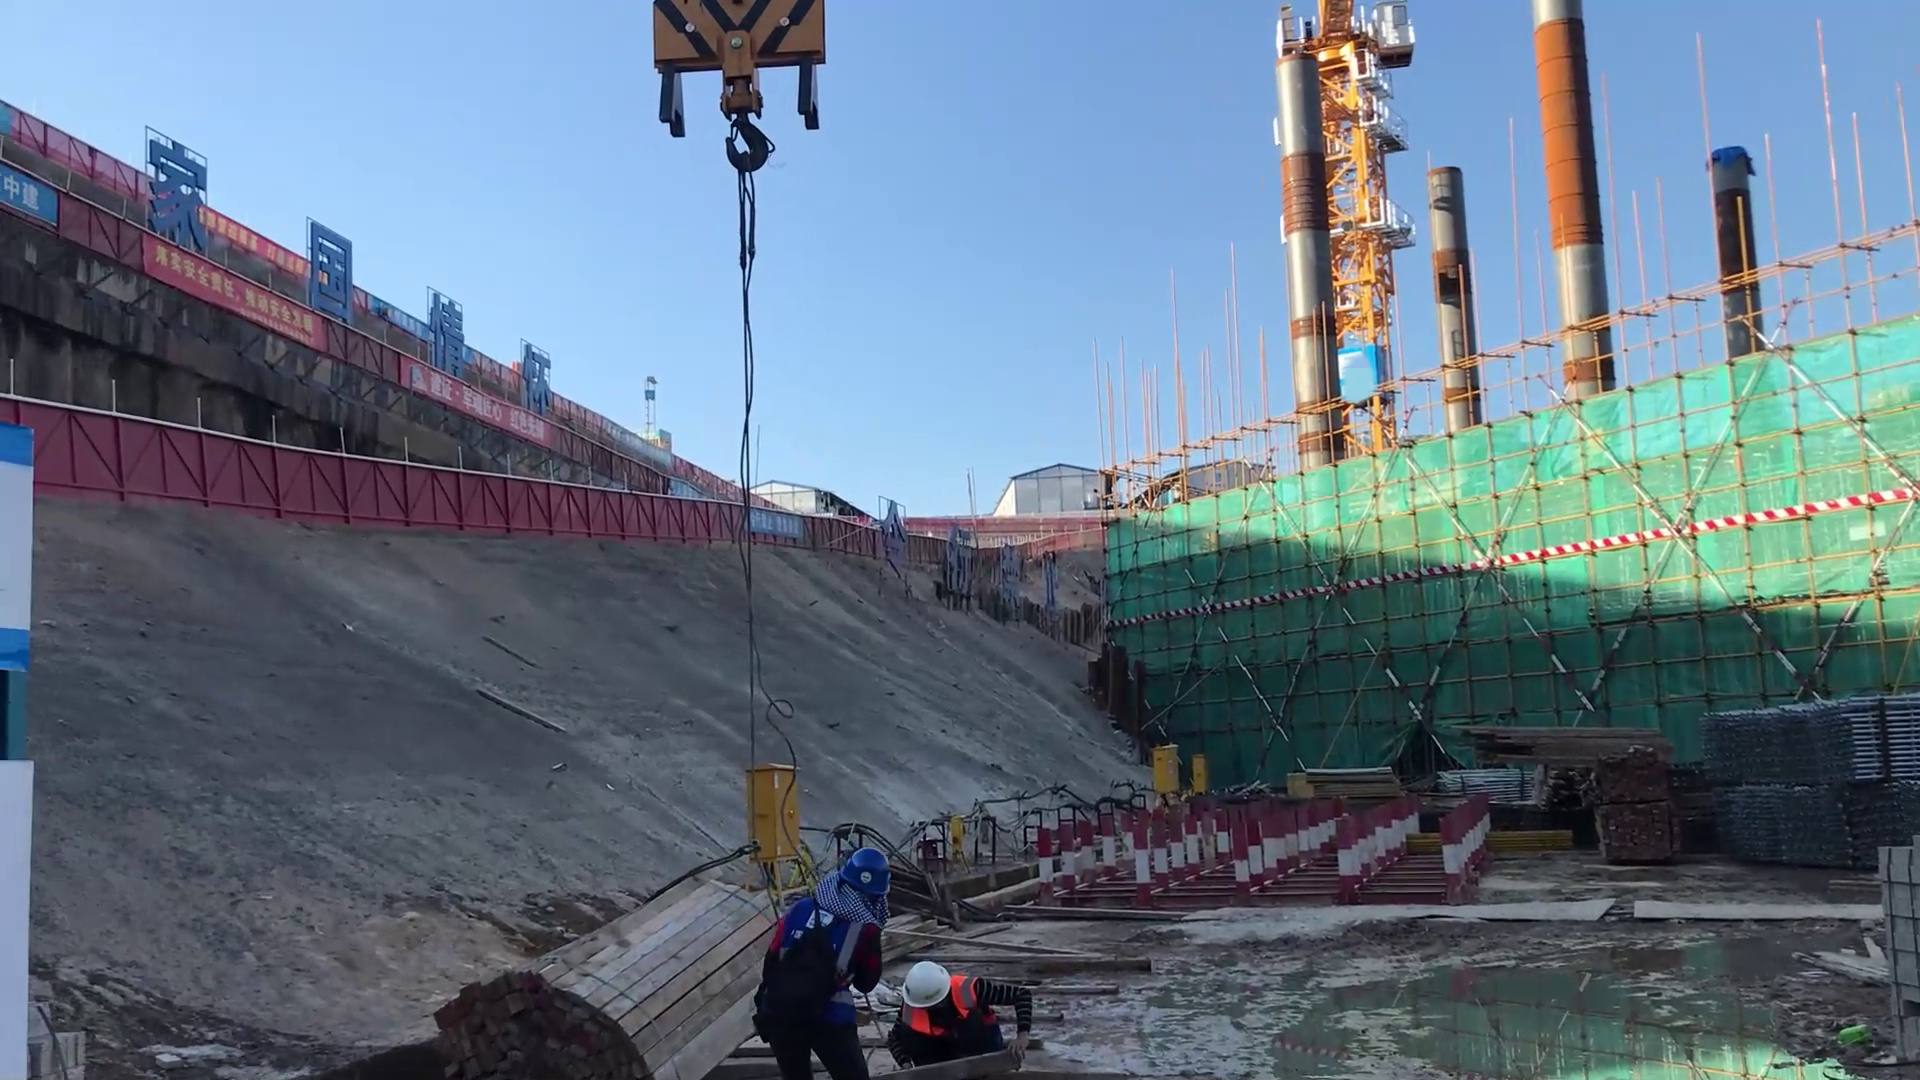ebox: (734, 734, 812, 870), (1146, 742, 1178, 796), (1188, 751, 1211, 791)
fence: (26, 394, 386, 533), (381, 461, 755, 548)
helmet: (826, 848, 923, 916), (895, 953, 959, 1009)
hook: (650, 1, 821, 144)
person: (751, 847, 894, 1080), (885, 962, 1036, 1078)
scaffold: (1689, 696, 1920, 779), (1722, 778, 1920, 865)
slogan: (119, 212, 323, 364)
wood: (436, 853, 749, 1080), (1437, 702, 1675, 776)
